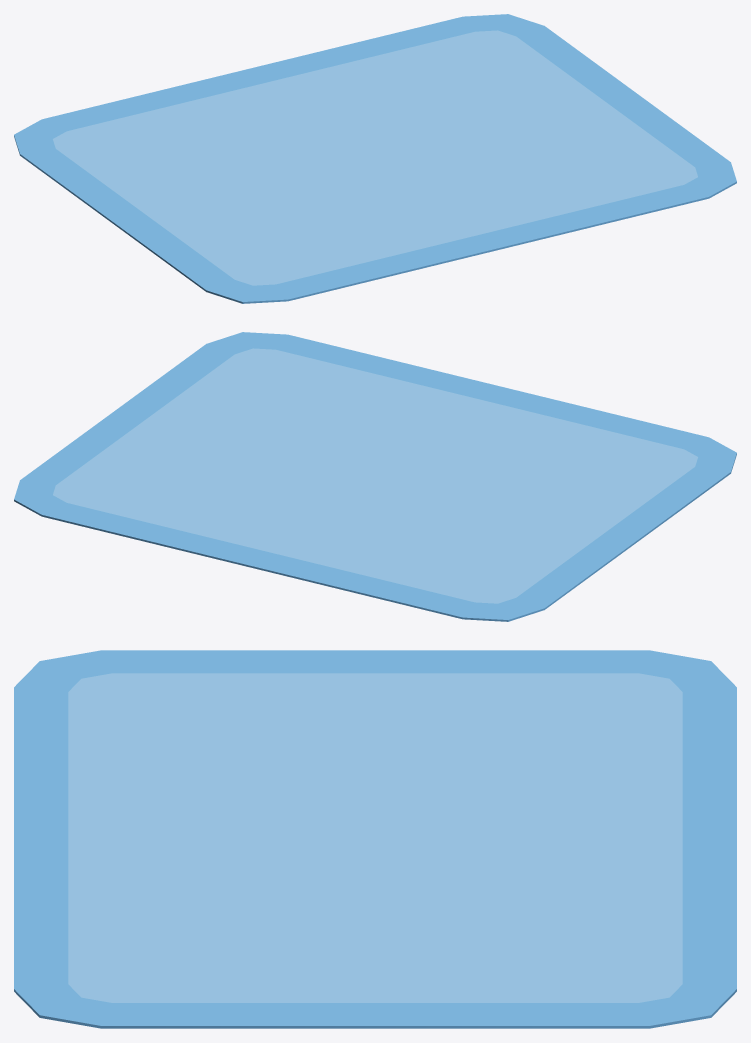
Rendered from Desk_base_03.fbx.
3 renders of one model, top to bottom at view 1: azimuth 30°, elevation 25°; view 2: azimuth 150°, elevation 25°; view 3: azimuth 270°, elevation 25°, orthographic. The views are drawn at different scales.
Visible parts, largest first — view 1: Desk_base_03; view 2: Desk_base_03; view 3: Desk_base_03.
Part boxes in pixels (bbox=[...]): Desk_base_03: bbox=[14, 14, 736, 303]; Desk_base_03: bbox=[14, 332, 736, 621]; Desk_base_03: bbox=[14, 650, 736, 1028].
Bounding box in the file's own units: 4.42 × 0.0146 × 3.59.
